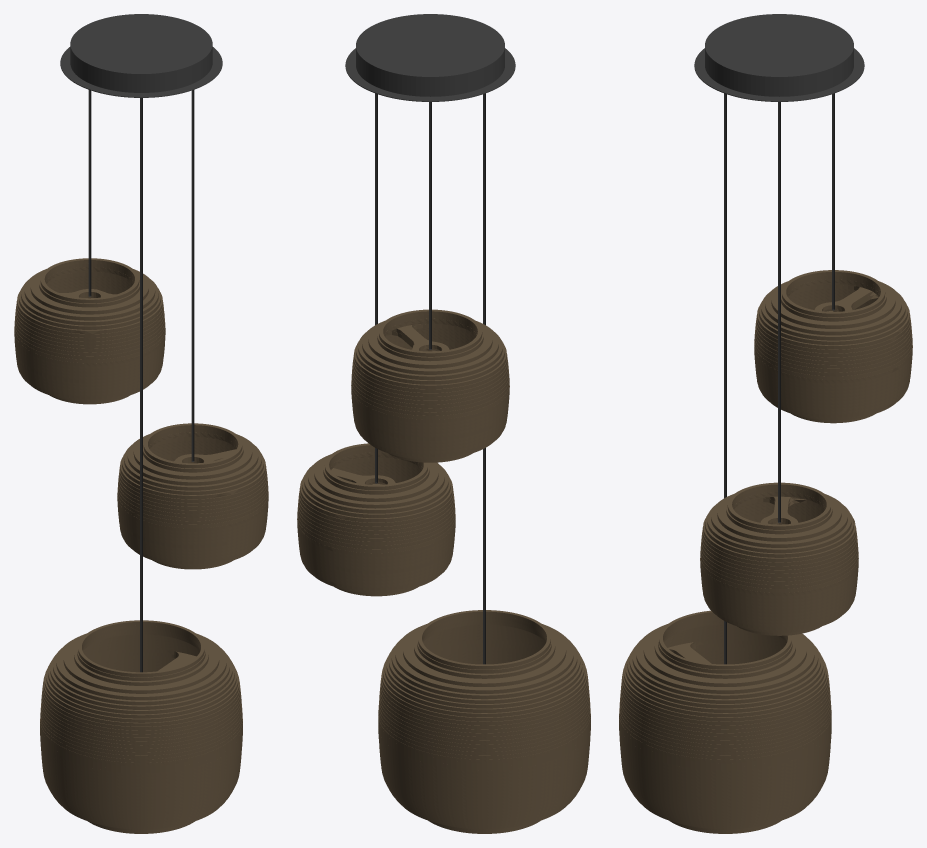
3 views of the same model, side by side, from view 1: azimuth 30°, elevation 25°; view 2: azimuth 150°, elevation 25°; view 3: azimuth 270°, elevation 25° (orthographic). The views are drawn at different scales.
Bounding box in the file's own units: 0.4923 × 1.5 × 0.5179.
